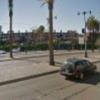cars: (61, 58, 98, 80)
